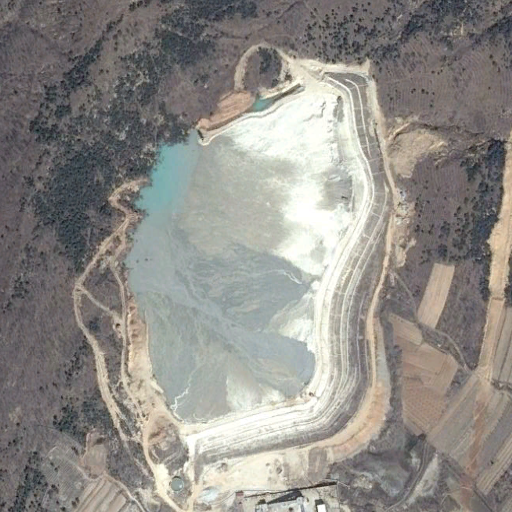tp: (121, 68, 389, 479)
